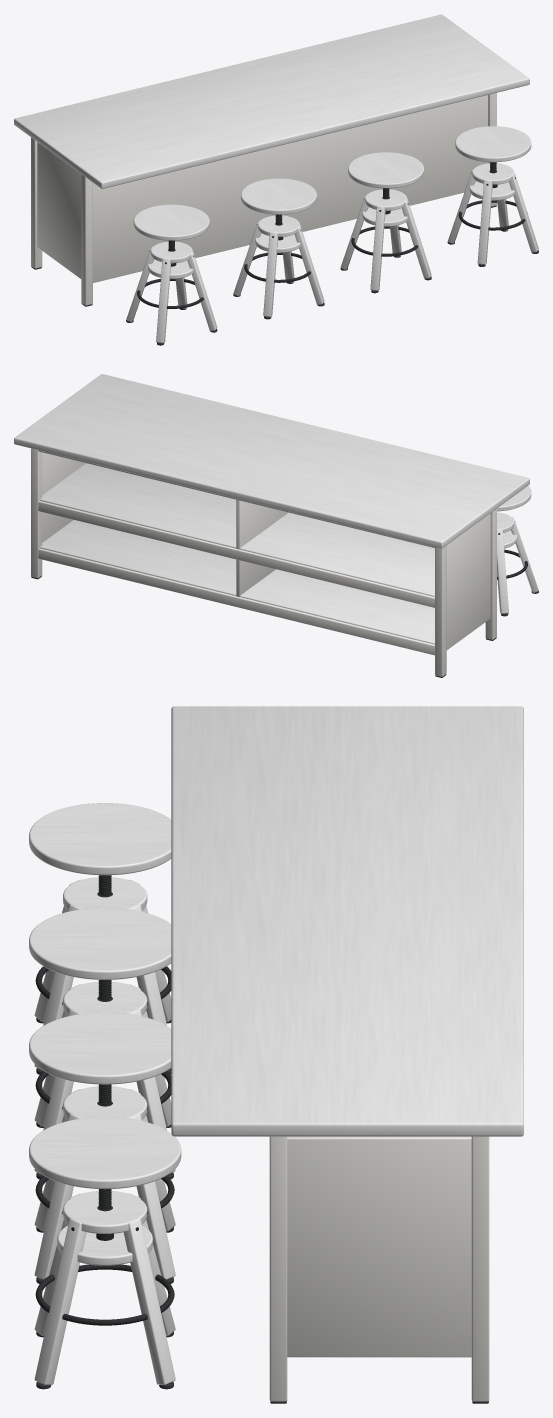
File: island-four-detailed.glb
3 views of the same model, one above another, from view 1: azimuth 30°, elevation 25°; view 2: azimuth 150°, elevation 25°; view 3: azimuth 270°, elevation 25° (orthographic). The views are drawn at different scales.
Parts seen in each view (by area): view 1: Thick eased island worktop, Recessed island rear panel, Recessed island end panel, Rounded timber stool seat.002, Rounded timber stool seat, Rounded timber stool seat.003, Rounded timber stool seat.001, Square island corner post, Square island corner post.001, Splayed timber stool leg.014, Splayed timber stool leg.006, Splayed timber stool leg.010 (+17 smaller); view 2: Thick eased island worktop, Inset timber island shelf.001, Inset timber island shelf, Recessed island end panel, Island front cross rail, Island front cross rail.001, Island central shelf divider, Square island corner post.001, Recessed island end panel.001, Square island corner post.003, Square island corner post, Island front cross rail.002 (+3 smaller); view 3: Thick eased island worktop, Recessed island end panel.001, Rounded timber stool seat.003, Rounded timber stool seat.002, Rounded timber stool seat.001, Rounded timber stool seat, Square island corner post.002, Square island corner post.003, Splayed timber stool leg.012, Splayed timber stool leg.015, Timber spindle support.007, Timber spindle support.003 (+10 smaller).
Boxes of the visible parts, x1,y1,x2,y2 form: Thick eased island worktop: (14,14,529,188); Recessed island rear panel: (93,95,488,282); Recessed island end panel: (37,142,81,278); Rounded timber stool seat.002: (348,152,424,188); Rounded timber stool seat: (133,204,209,240); Rounded timber stool seat.003: (455,126,531,162); Rounded timber stool seat.001: (241,178,316,214); Square island corner post: (81,174,92,305); Square island corner post.001: (31,137,42,268); Splayed timber stool leg.014: (477,180,492,264); Splayed timber stool leg.006: (263,232,278,316); Splayed timber stool leg.010: (370,206,385,290); Thick eased island worktop: (14,374,529,548); Inset timber island shelf.001: (40,463,434,596); Inset timber island shelf: (40,520,434,644); Recessed island end panel: (446,513,490,649); Island front cross rail: (38,548,434,655); Island front cross rail.001: (38,501,434,607); Island central shelf divider: (236,500,288,597); Square island corner post.001: (435,545,446,676); Recessed island end panel.001: (42,452,85,542); Square island corner post.003: (31,448,42,578); Square island corner post: (485,508,496,639); Island front cross rail.002: (38,450,434,547); Thick eased island worktop: (171,706,523,1136); Recessed island end panel.001: (287,1136,471,1357); Rounded timber stool seat.003: (29,1117,181,1189); Rounded timber stool seat.002: (29,1012,171,1084); Rounded timber stool seat.001: (29,907,171,979); Rounded timber stool seat: (29,803,171,875); Square island corner post.002: (269,1136,287,1401); Square island corner post.003: (471,1136,489,1401); Splayed timber stool leg.012: (123,1218,175,1384); Splayed timber stool leg.015: (34,1218,86,1384); Timber spindle support.007: (63,1191,147,1233); Timber spindle support.003: (63,981,147,1014).
Bounding box in the file's own units: 2.79 × 0.9 × 1.4.
Materials: 4 (1 with a texture image).
